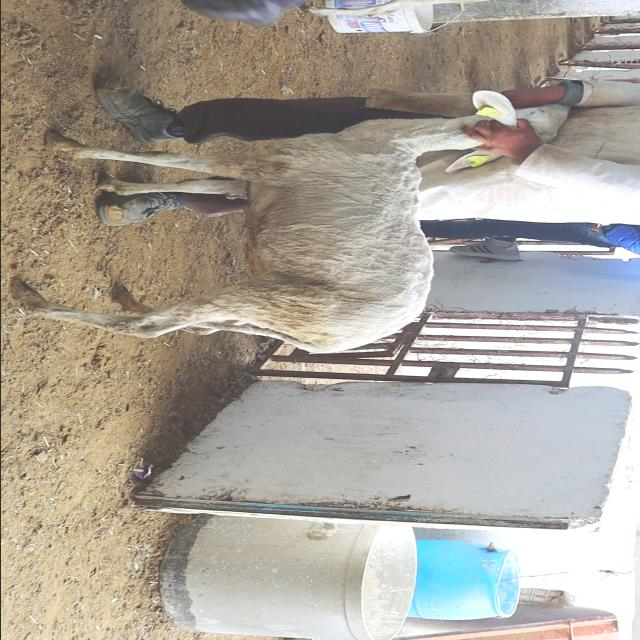Score_1: (12, 91, 568, 353)
